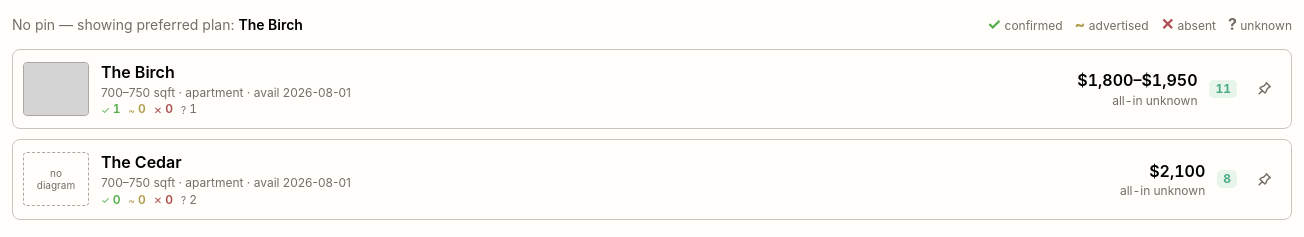
Test: FloorPlanList — pin › pins from the card without opening the detail
What coordinates should you click on to do the following:
click the button named "Pin The Cedar for 1 bd / 1 ba"
I would click on:
 (1264, 179)
Its box is x1=1247 y1=162 x2=1281 y2=196.
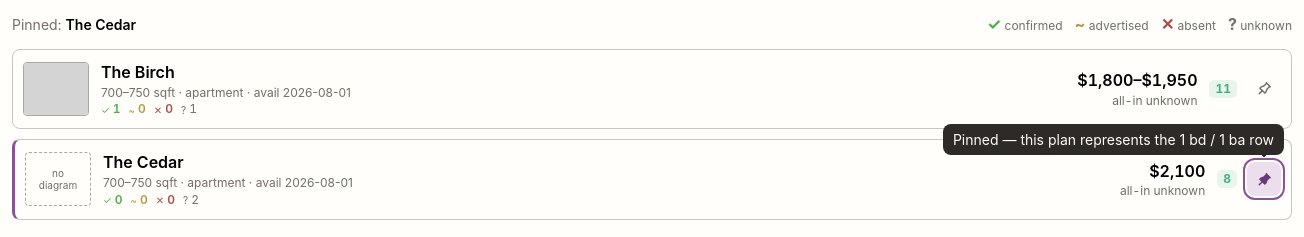
Check: the text "Pinned: The Cedar" is shown, box x1=12 y1=15 x2=136 y2=35
